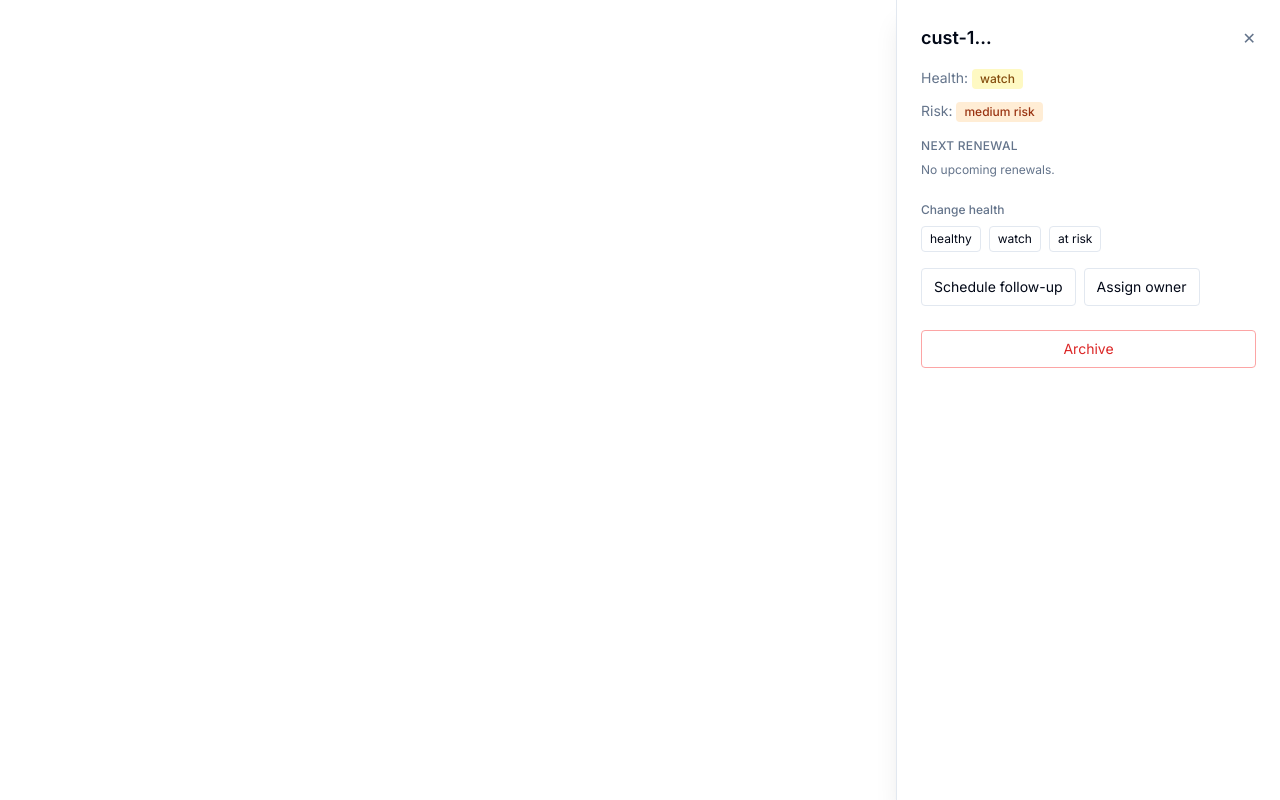
Test case: CustomerSuccessDrawer › opens owner dialog on assign-owner-btn click
Click the button with test id "assign-owner-btn".
click(1142, 287)  # box [1084,268,1200,306]
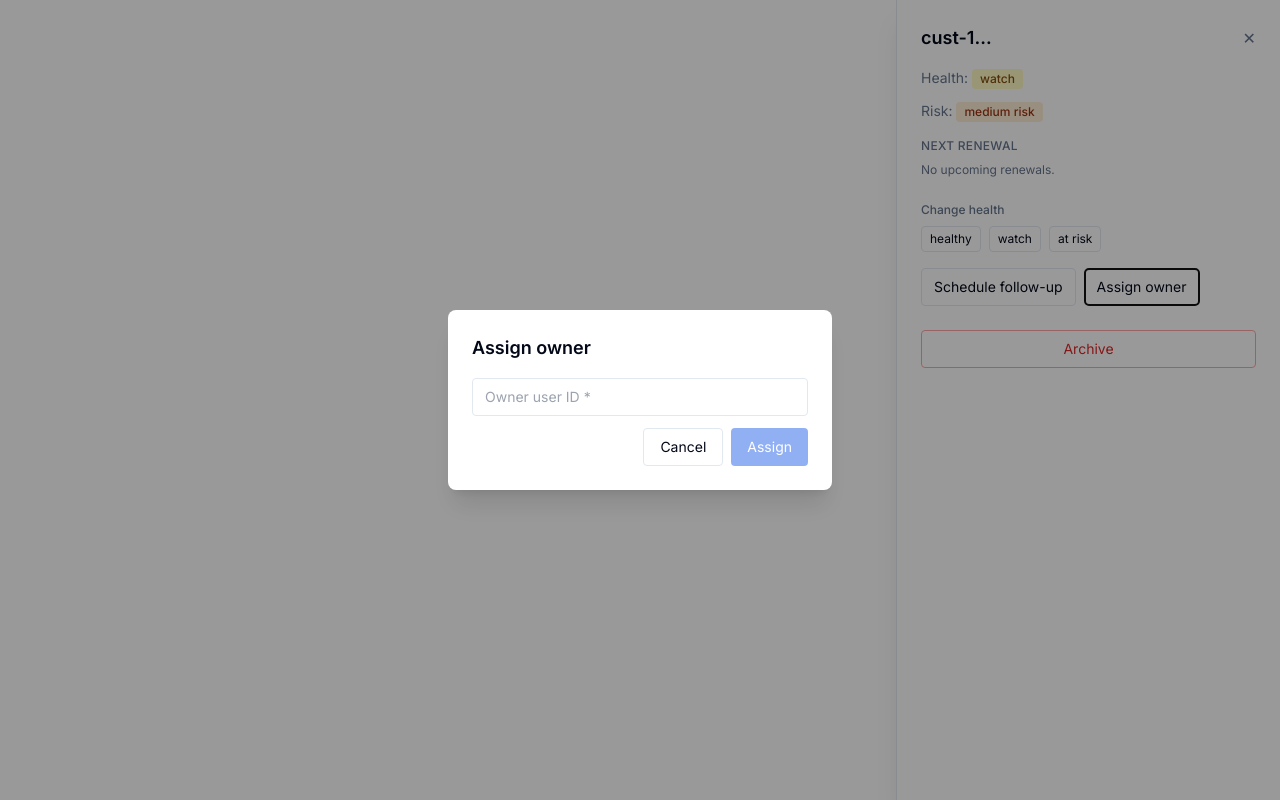
Now the element with test id "owner-dialog" is shown
